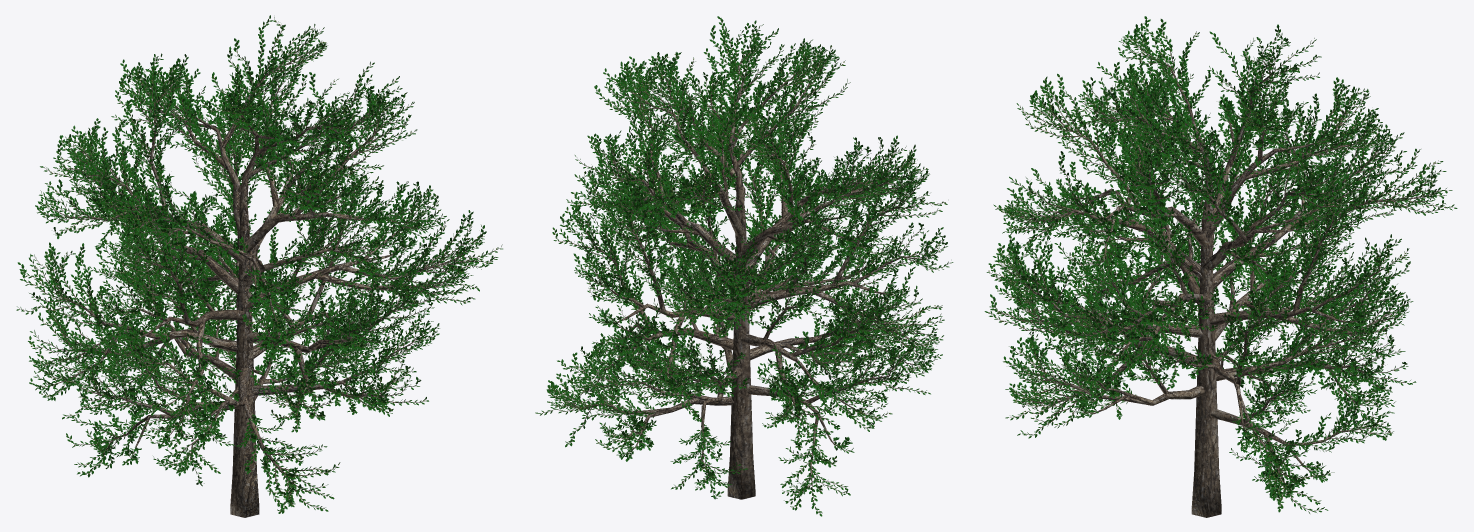
The model's file is tree.fbx.
The picture shows the model from 3 angles, left to right: view 1: azimuth 30°, elevation 25°; view 2: azimuth 150°, elevation 25°; view 3: azimuth 270°, elevation 25°; orthographic projection. The views are drawn at different scales.
Visible parts, largest first — view 1: leaves, tree, fruits; view 2: leaves, tree, fruits; view 3: leaves, tree, fruits.
Boxes of the visible parts, x1,y1,x2,y2 form: leaves: [16, 15, 502, 513]; tree: [19, 20, 499, 517]; fruits: [23, 20, 496, 512]; leaves: [535, 16, 953, 516]; tree: [542, 23, 947, 512]; fruits: [543, 21, 945, 507]; leaves: [984, 16, 1457, 513]; tree: [990, 23, 1452, 517]; fruits: [988, 28, 1445, 505].
Size of the model in its own units: 1595 by 1761 by 1592.
Materials: 3 (3 with a texture image).
